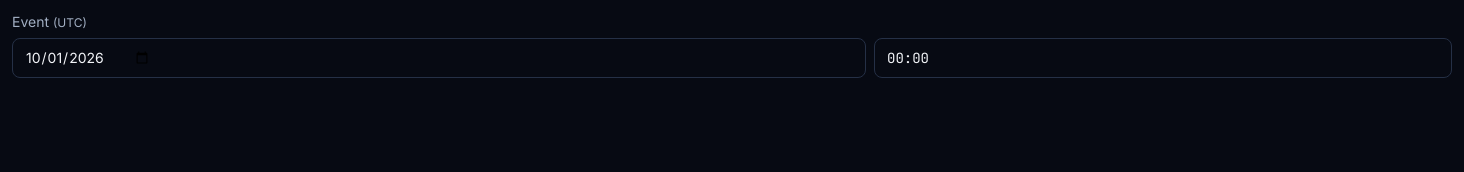
Test: report time entry › typing 0430 keystroke by keystroke keeps 04:30
This screenshot has width=1464, height=172.
Replace the text in the field named "Event, time (24-hour)" with "0": (1163, 58) [874,38,1452,78]
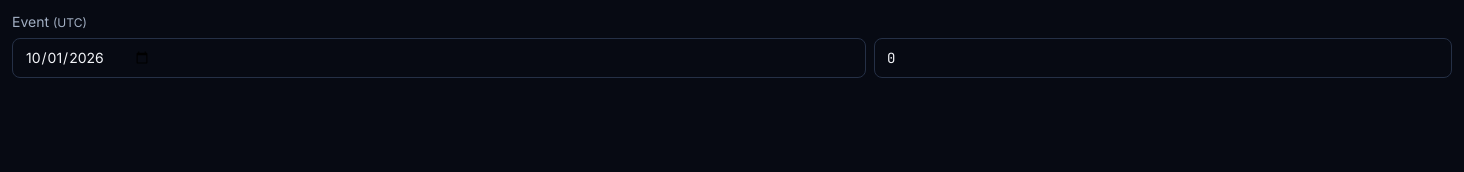
Replace the text in the field named "Event, time (24-hour)" with "04": (1163, 58) [874,38,1452,78]
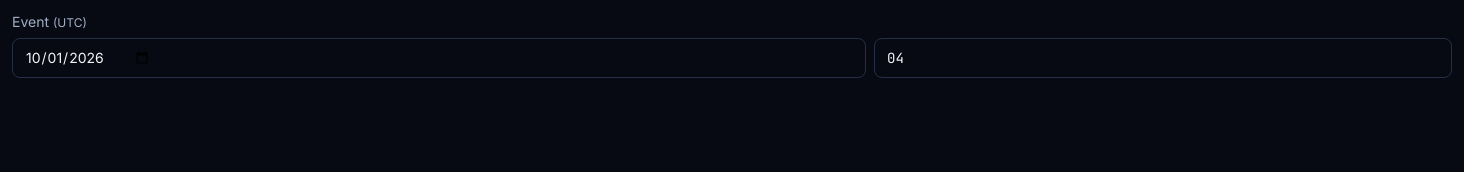
Replace the text in the field named "Event, time (24-hour)" with "043": (1163, 58) [874,38,1452,78]
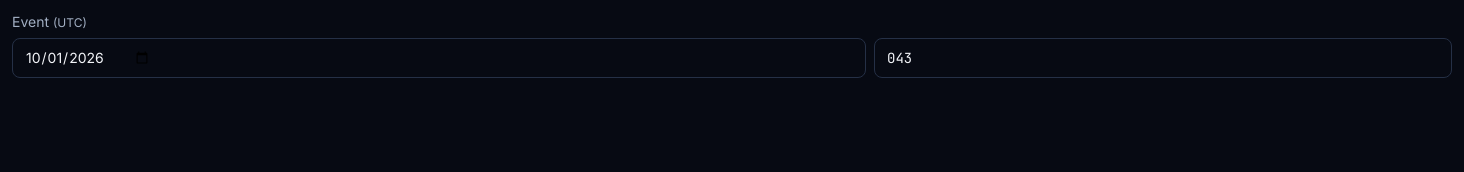
Replace the text in the field named "Event, time (24-hour)" with "0430": (1163, 58) [874,38,1452,78]
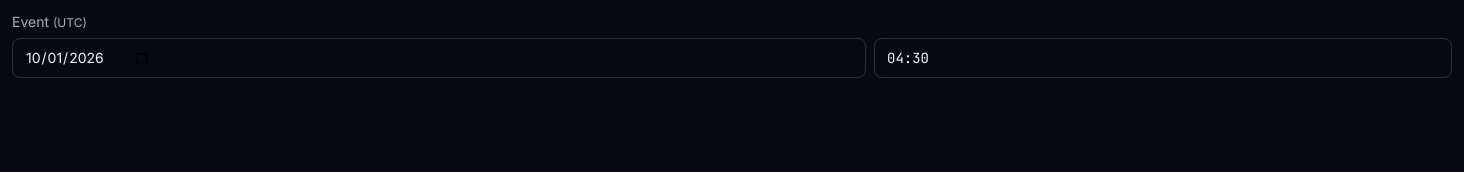
Result: the field named "Event, time (24-hour)" holds "04:30" at [874,38,1452,78]
